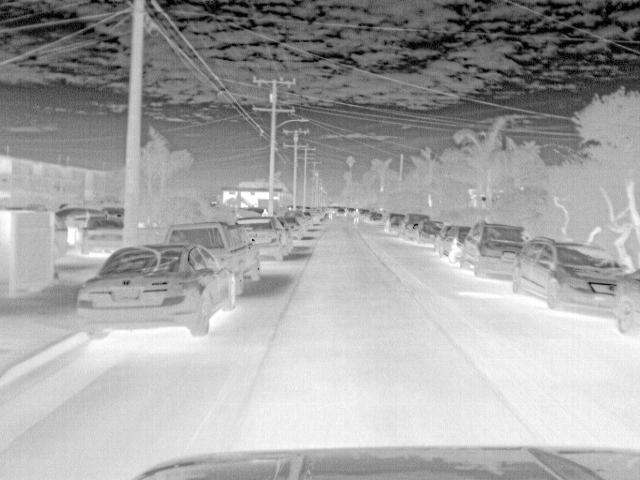car: (73, 243, 239, 338), (514, 237, 628, 318), (165, 221, 261, 294), (458, 220, 527, 283), (236, 220, 291, 262), (610, 269, 640, 341), (81, 217, 125, 255), (55, 206, 106, 232), (438, 226, 475, 261), (415, 220, 447, 248), (403, 212, 431, 240), (278, 215, 304, 240), (301, 205, 323, 224), (390, 214, 407, 234), (298, 212, 316, 229), (368, 212, 385, 223), (335, 206, 350, 218)
person: (353, 208, 363, 225), (258, 206, 271, 218), (327, 206, 336, 220)
